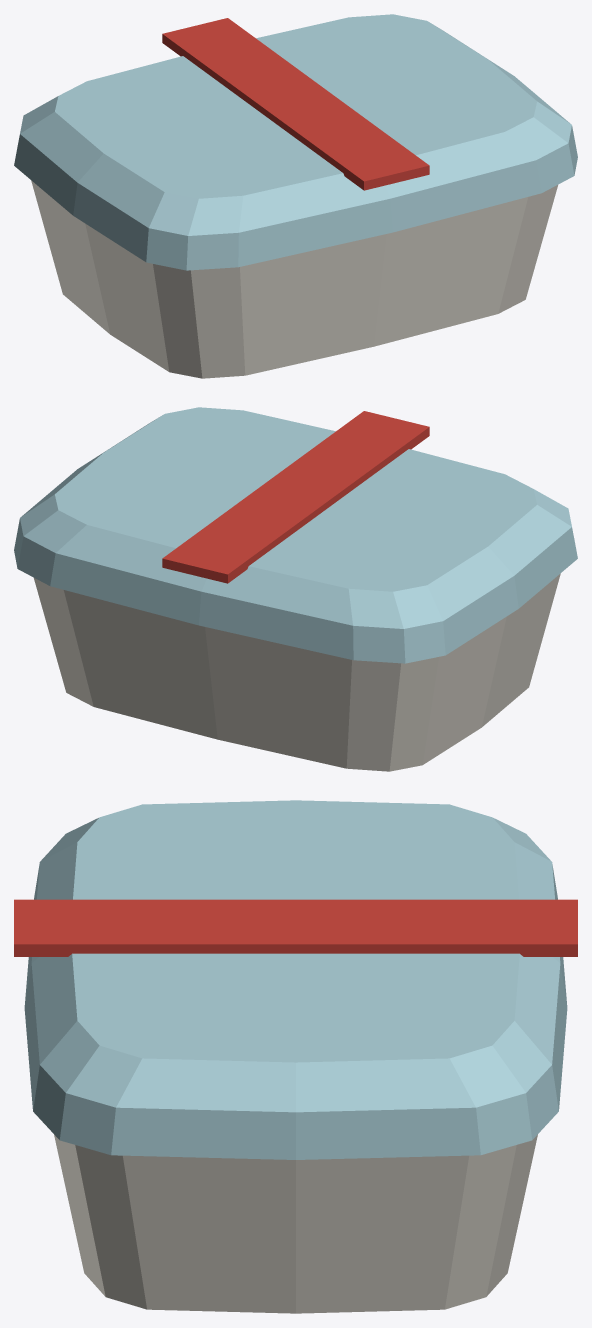
Rendered from takeaway_box.glb.
3 renders of one model, top to bottom at view 1: azimuth 30°, elevation 25°; view 2: azimuth 150°, elevation 25°; view 3: azimuth 270°, elevation 25°, orthographic. The views are drawn at different scales.
Visible parts, largest first — view 1: takeaway_box; view 2: takeaway_box; view 3: takeaway_box.
Part boxes in pixels (box(x1,y1,x2,y2)): takeaway_box: box(14, 14, 577, 378); takeaway_box: box(14, 407, 577, 771); takeaway_box: box(14, 800, 577, 1313).
Bounding box in the file's own units: 0.204 × 0.083 × 0.16.
